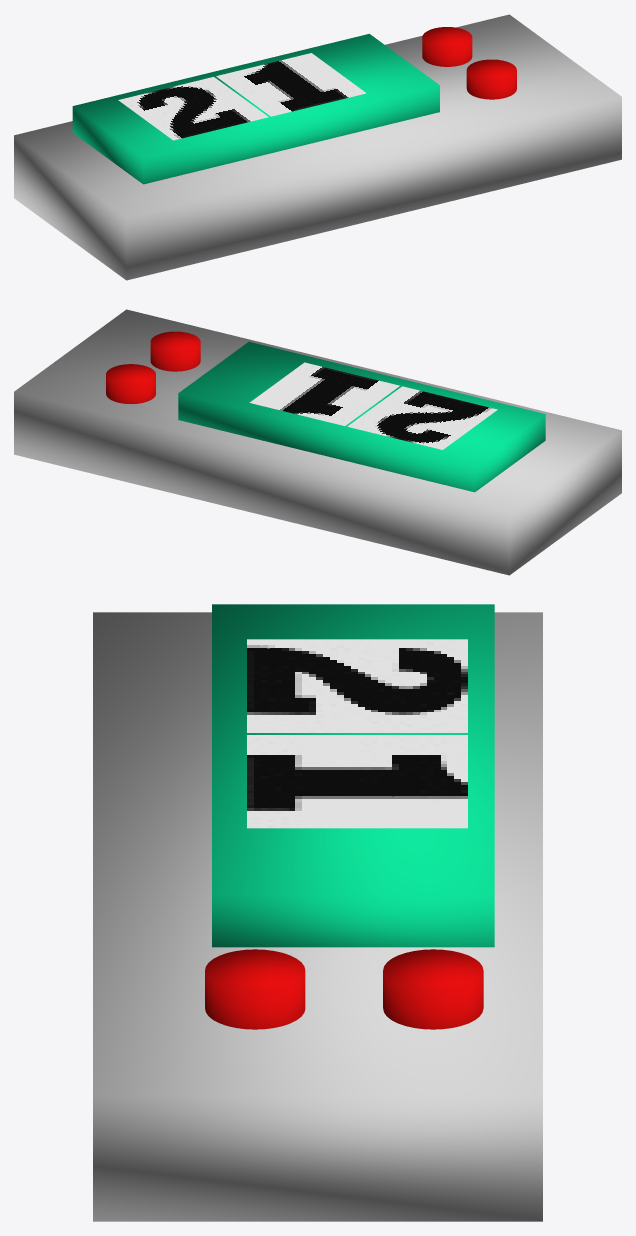
The model's file is Thermometer_v2.fbx.
3 renders of one model, top to bottom at view 1: azimuth 30°, elevation 25°; view 2: azimuth 150°, elevation 25°; view 3: azimuth 270°, elevation 25°, orthographic. The views are drawn at different scales.
Parts seen in each view (by area): view 1: Cube, Cube.001, temp1, temp0, Cylinder.001, Cylinder; view 2: Cube, Cube.001, temp0, temp1, Cylinder.001, Cylinder; view 3: Cube, Cube.001, temp1, temp0, Cylinder.001, Cylinder.
Part boxes in pixels (x1,y1,x2,y2): Cube: (14, 14, 621, 280); Cube.001: (72, 33, 439, 184); temp1: (216, 53, 366, 116); temp0: (118, 77, 268, 140); Cylinder.001: (466, 59, 516, 99); Cylinder: (422, 27, 472, 66); Cube: (14, 309, 621, 575); Cube.001: (178, 341, 545, 492); temp0: (347, 386, 497, 449); temp1: (249, 362, 399, 425); Cylinder.001: (150, 331, 200, 371); Cylinder: (106, 364, 155, 404); Cube: (93, 612, 542, 1221); Cube.001: (212, 604, 494, 947); temp1: (247, 735, 467, 828); temp0: (247, 639, 467, 732); Cylinder.001: (205, 949, 305, 1029); Cylinder: (383, 949, 483, 1029).
Bounding box in the file's own units: 0.019 × 0.00333 × 0.00748.
